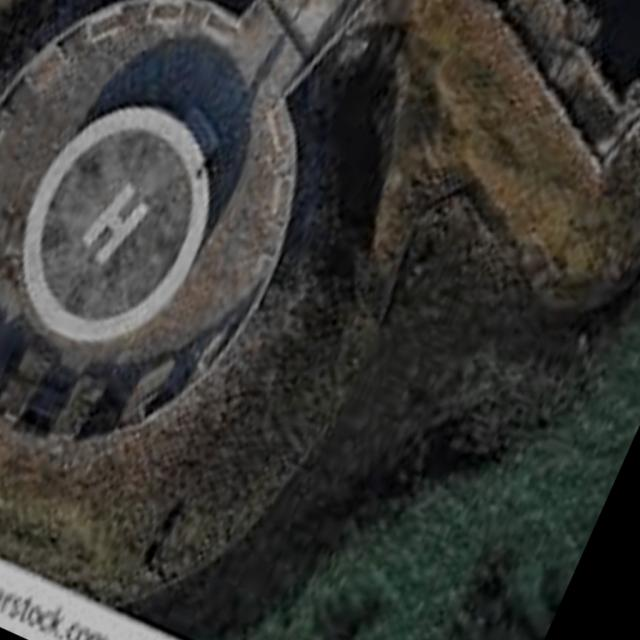helipad: (17, 103, 213, 346)
